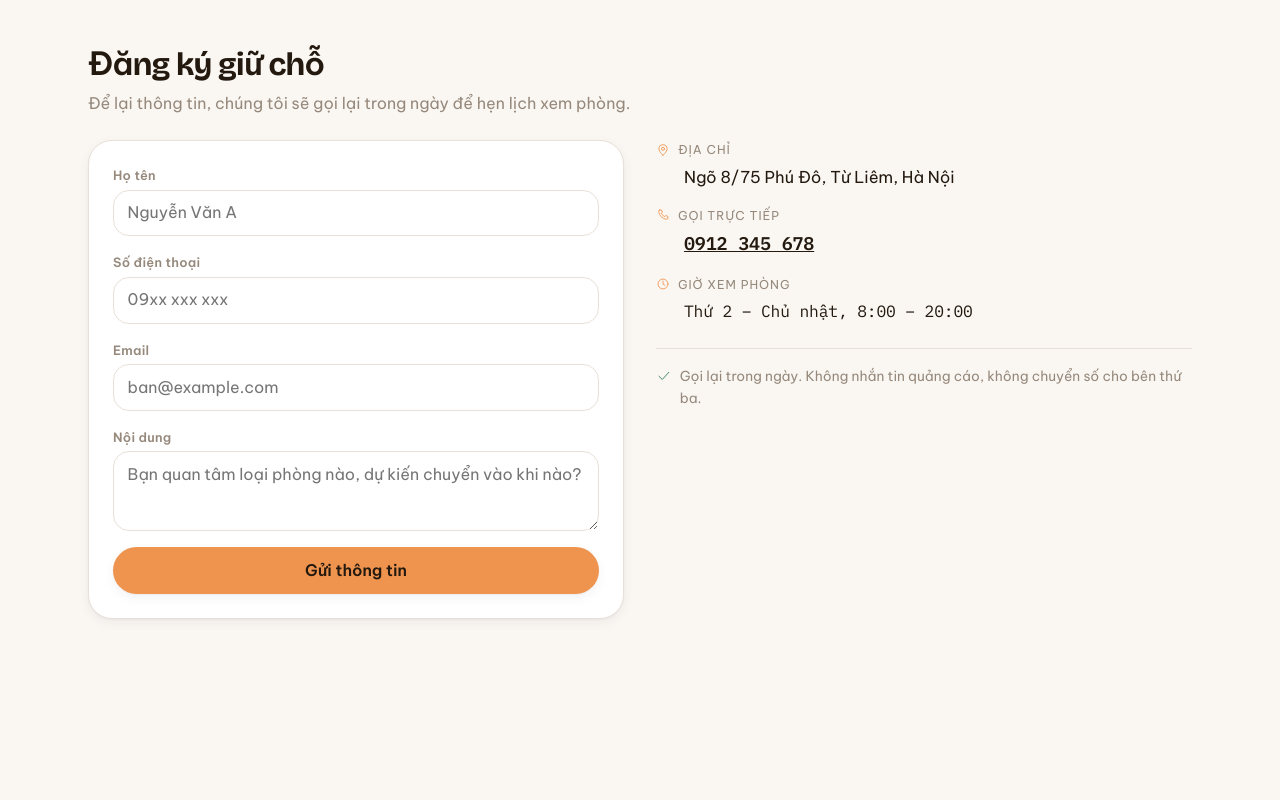
ContactForm › surfaces the backend message when the submission fails
The image size is (1280, 800).
Type "Khach" into the field labelled "Họ tên".
click(356, 213); type("Khach")  # box [113,190,599,236]
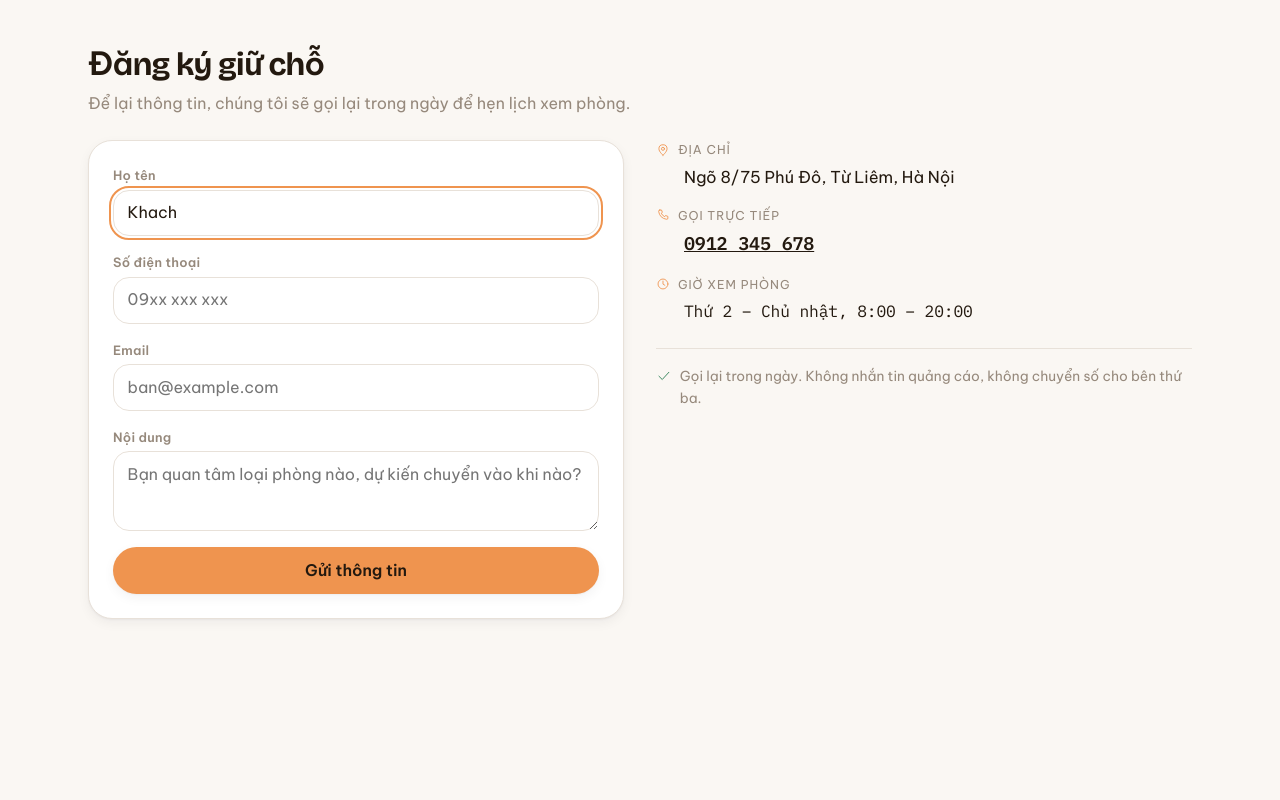
Type "0900000000" into the field labelled "Số điện thoại".
click(356, 300); type("0900000000")  # box [113,277,599,324]
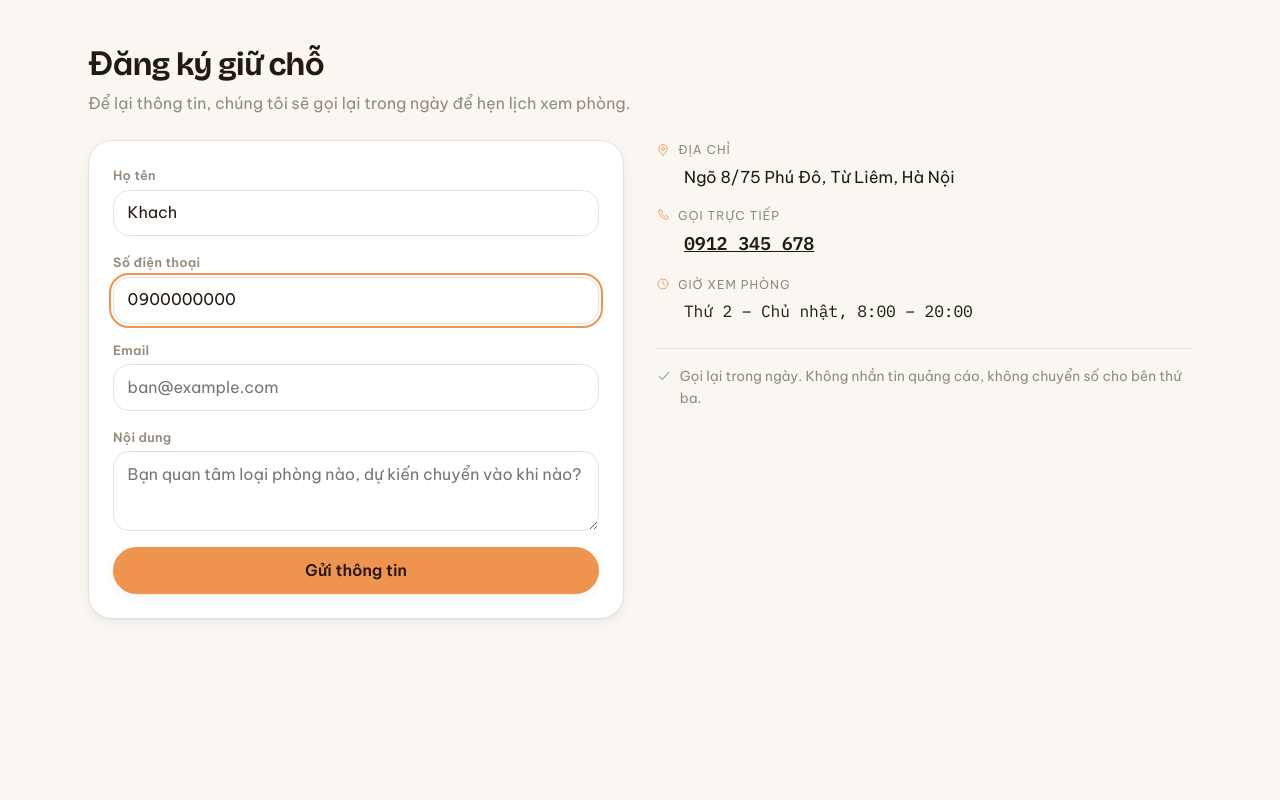
Click the button "Gửi thông tin".
click(356, 571)  # box [113,547,599,594]
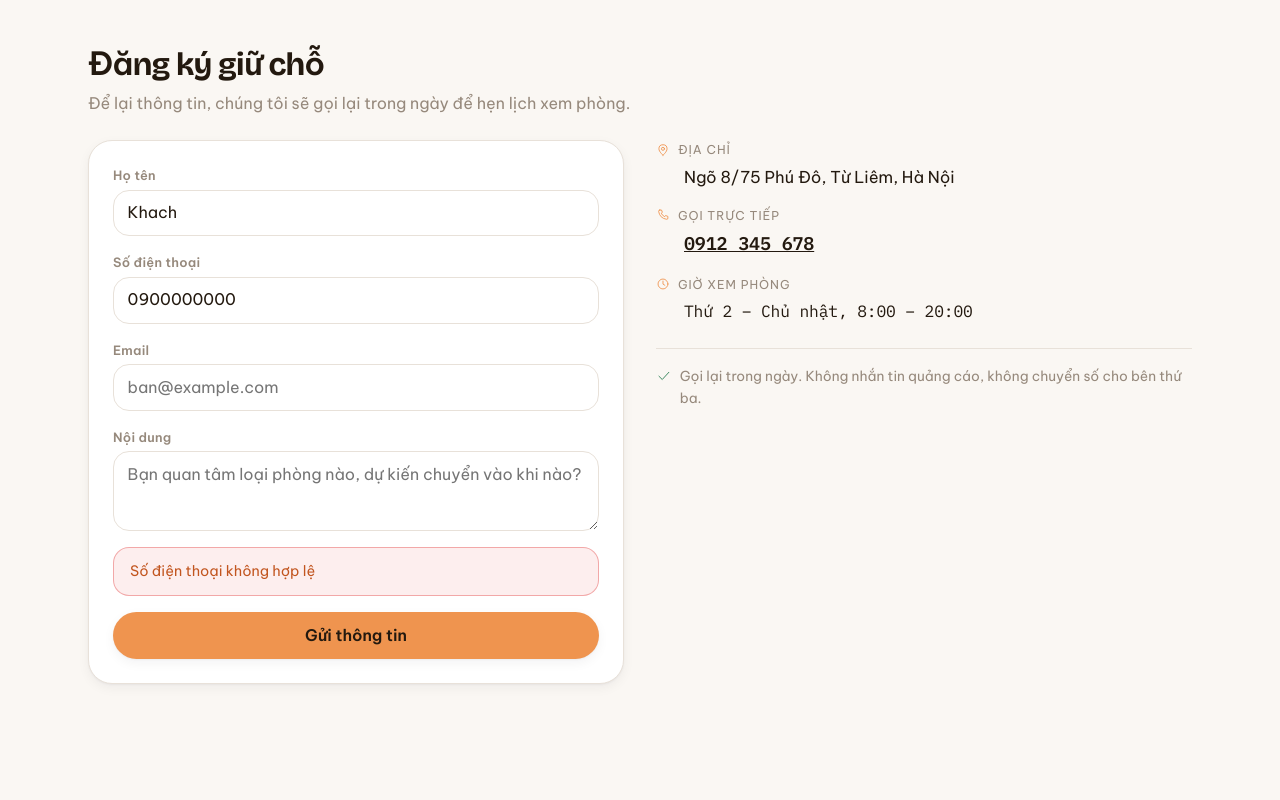
Now the text "Số điện thoại không hợp lệ" is shown, box [113,547,599,596]
